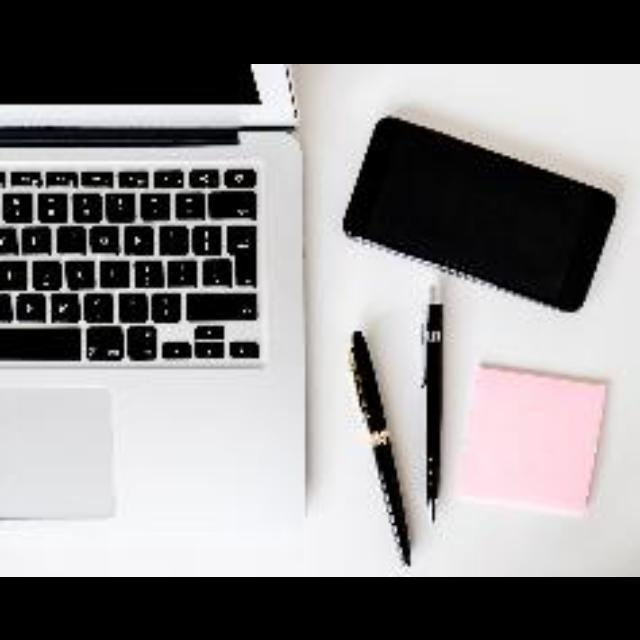Phone: (344, 115, 618, 312)
